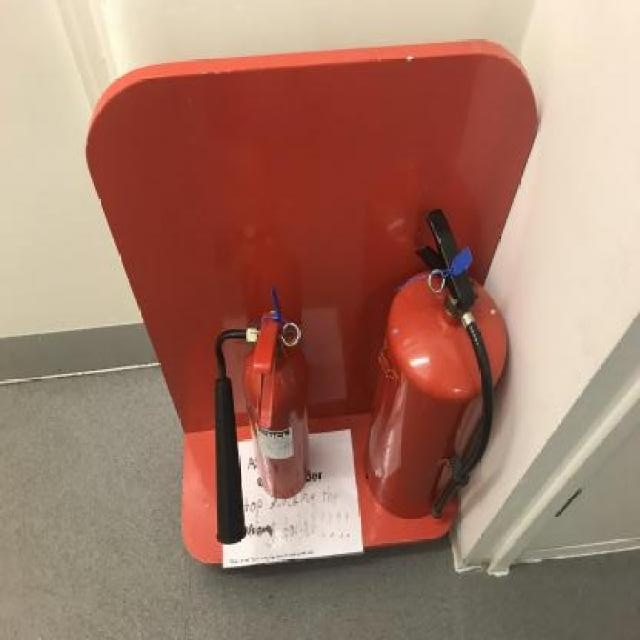fire extinguisher: (362, 204, 506, 521), (213, 282, 310, 546)
